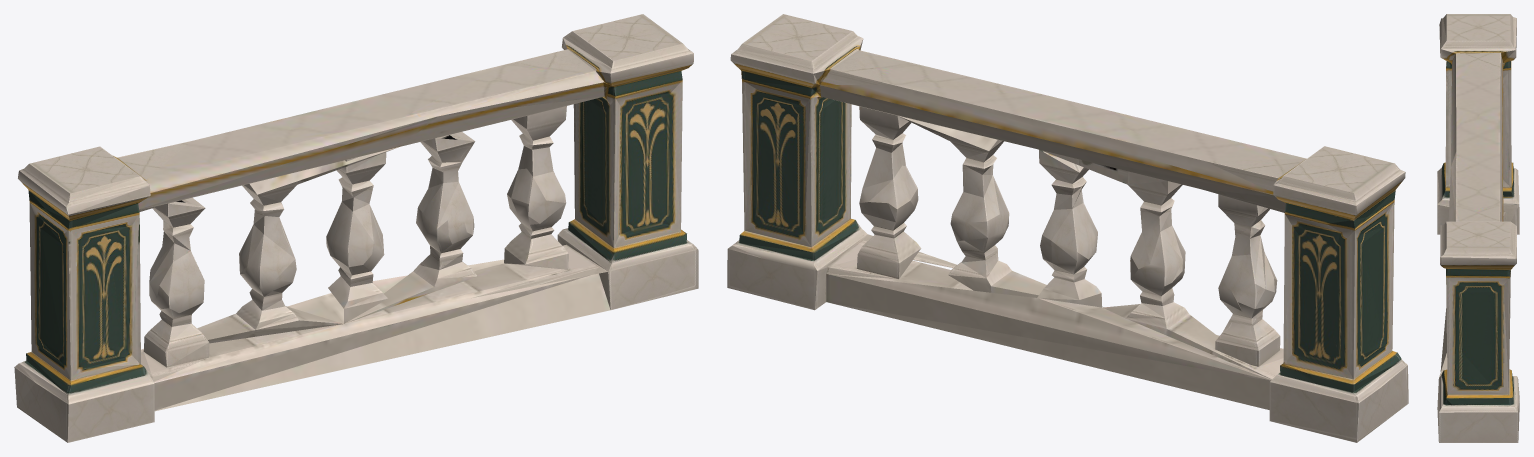
Rendered from item04.glb.
The picture shows the model from 3 angles, left to right: view 1: azimuth 30°, elevation 25°; view 2: azimuth 150°, elevation 25°; view 3: azimuth 270°, elevation 25°; orthographic projection. The views are drawn at different scales.
Parts seen in each view (by area): view 1: output_unwrapped; view 2: output_unwrapped; view 3: output_unwrapped.
Boxes of the visible parts, <box> form: output_unwrapped: <box>14,14,698,442</box>; output_unwrapped: <box>727,14,1408,442</box>; output_unwrapped: <box>1437,14,1519,442</box>.
Bounding box in the file's own units: 1 × 0.3703 × 0.1441.
Materials: 1 (1 with a texture image).
